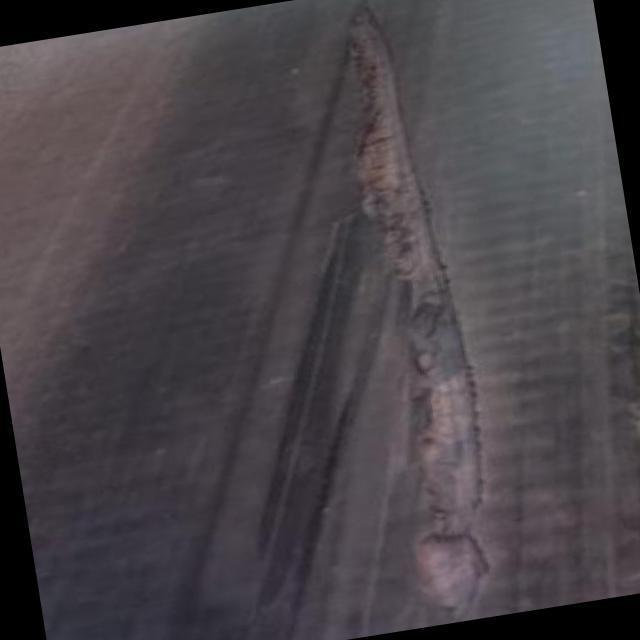Tear: (341, 0, 496, 612)
